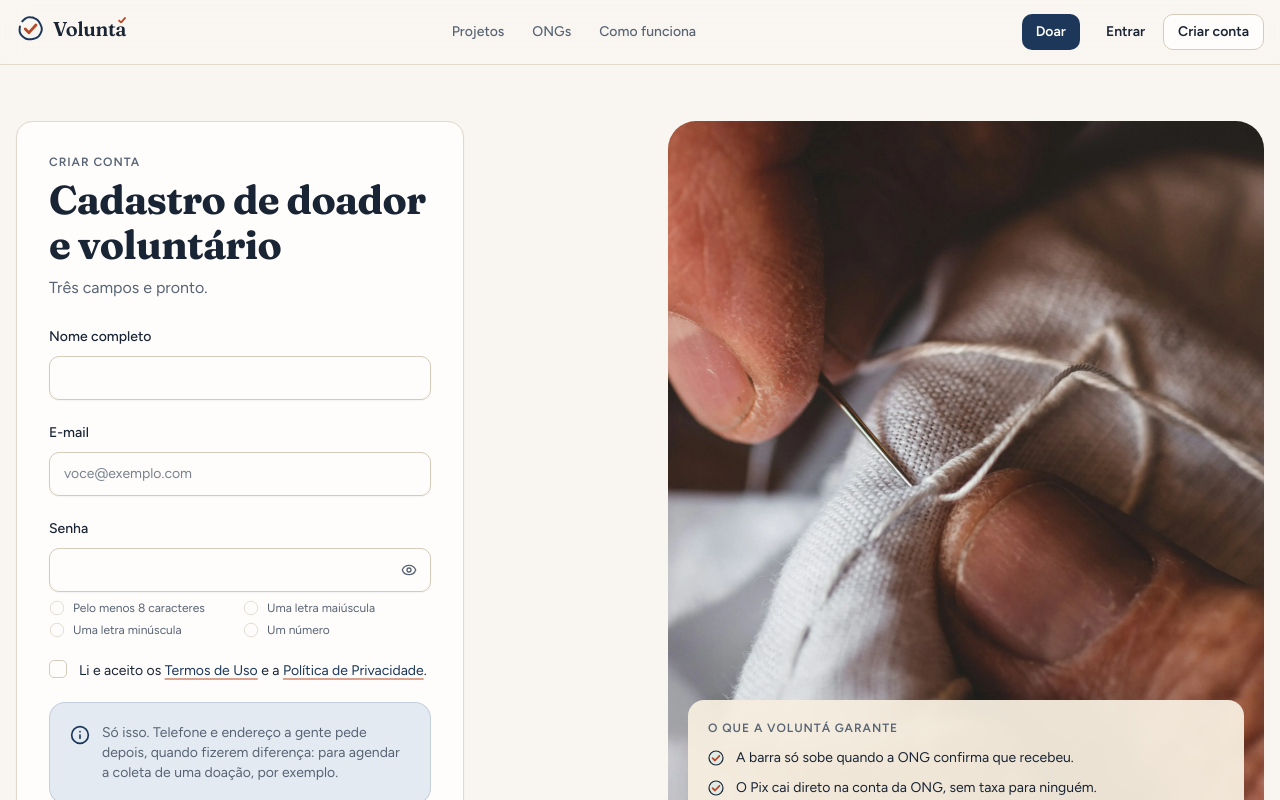
Test: CadastroPage: doador › trata usuário sem identidades como e-mail já cadastrado (confirmação ligada)
Type "Maria Souza" into the field labelled "Nome completo". click: (240, 378)
box: [49,356,431,400]
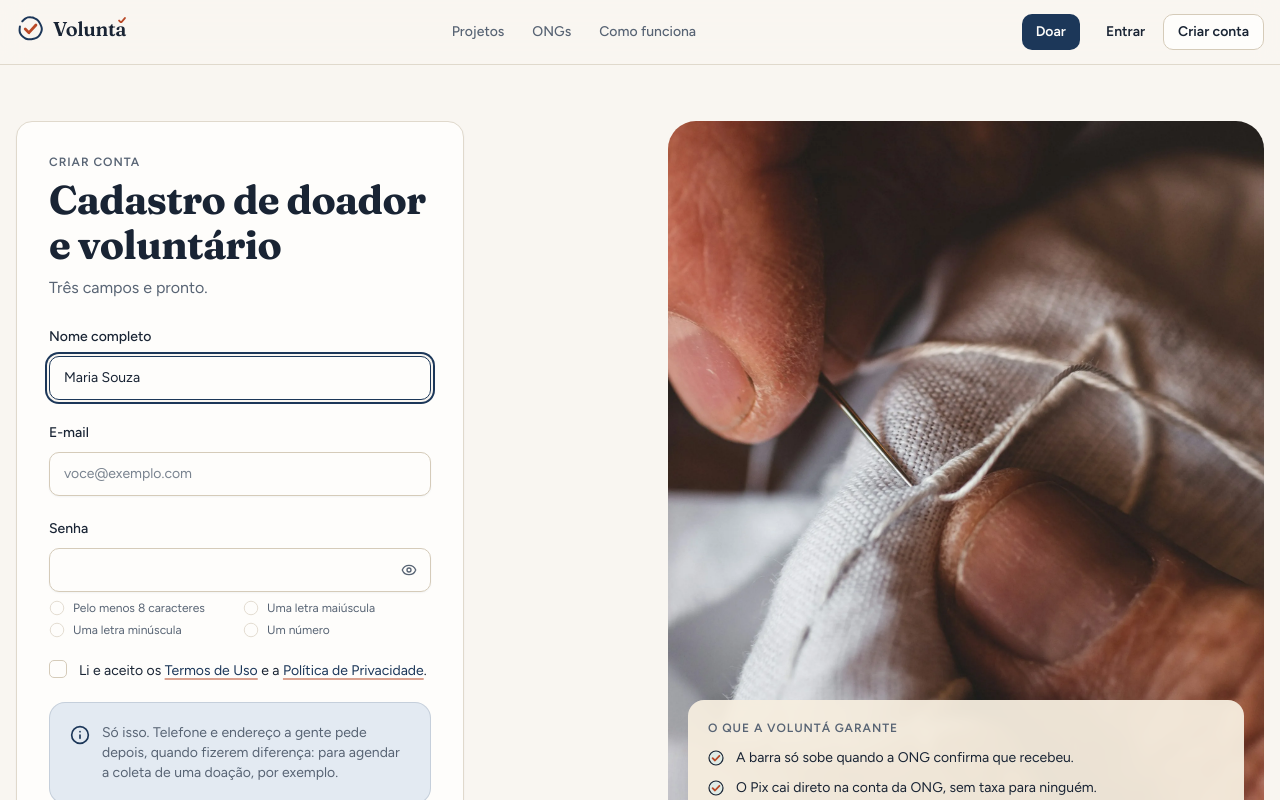
Type "maria@exemplo.com" into the field labelled "E-mail". click: (240, 474)
box: [49,452,431,496]
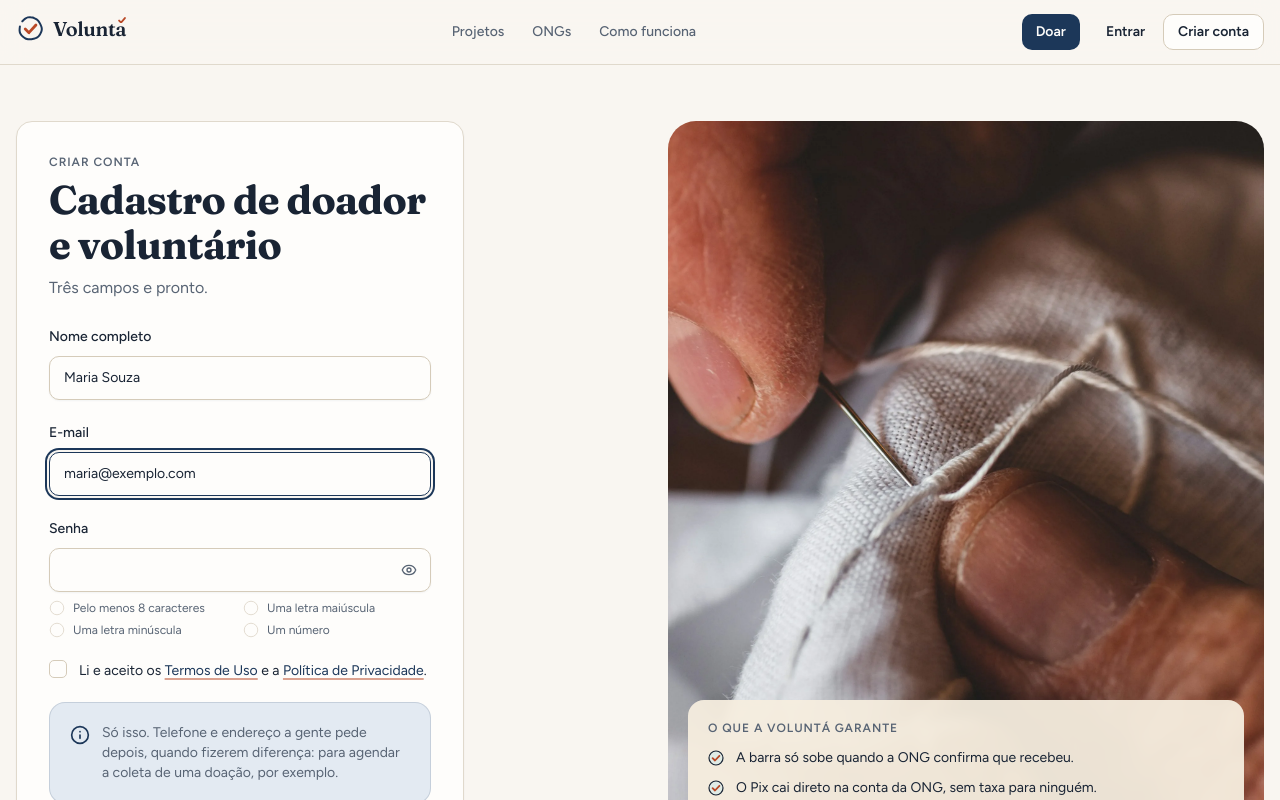
Type "Senha1234" into the password field labelled "Senha". click: (240, 570)
box: [49,548,431,592]
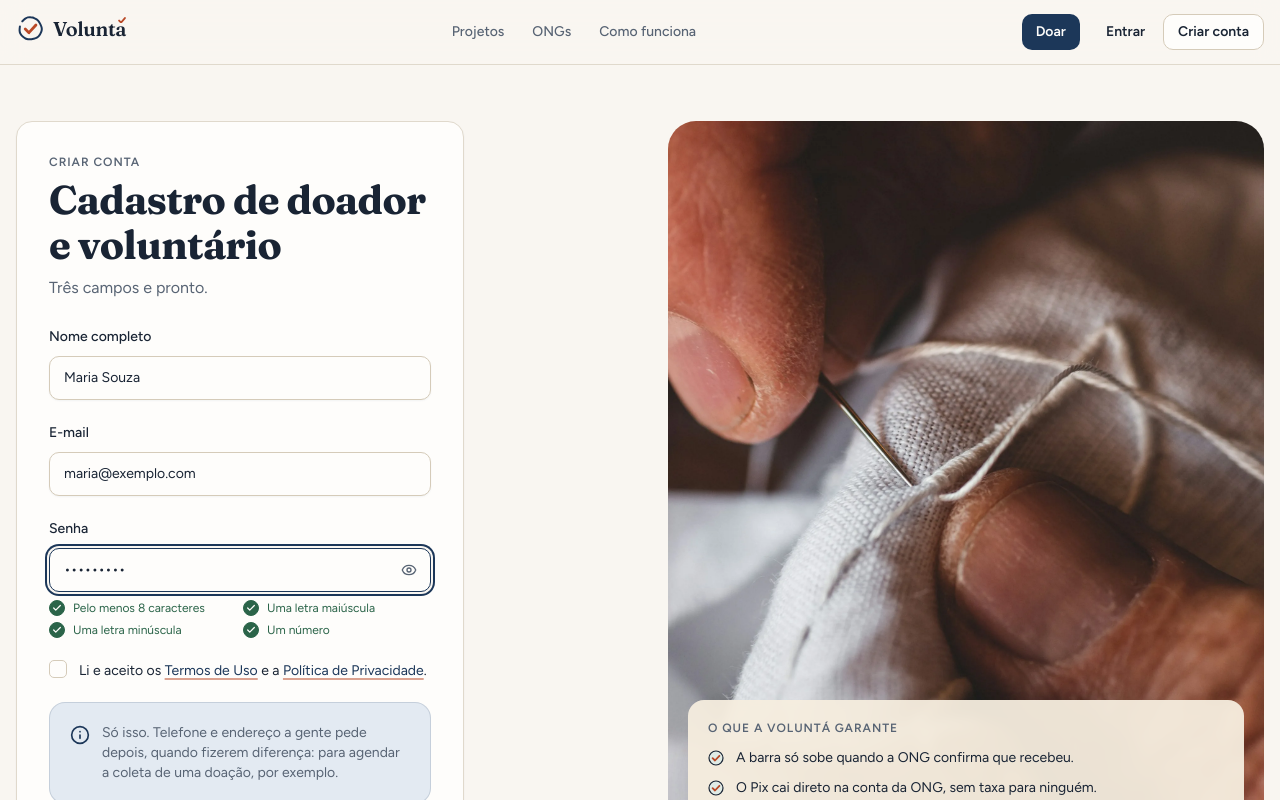
Click the checkbox. click: click(58, 669)
box: [49,660,67,678]
(page scrolled)
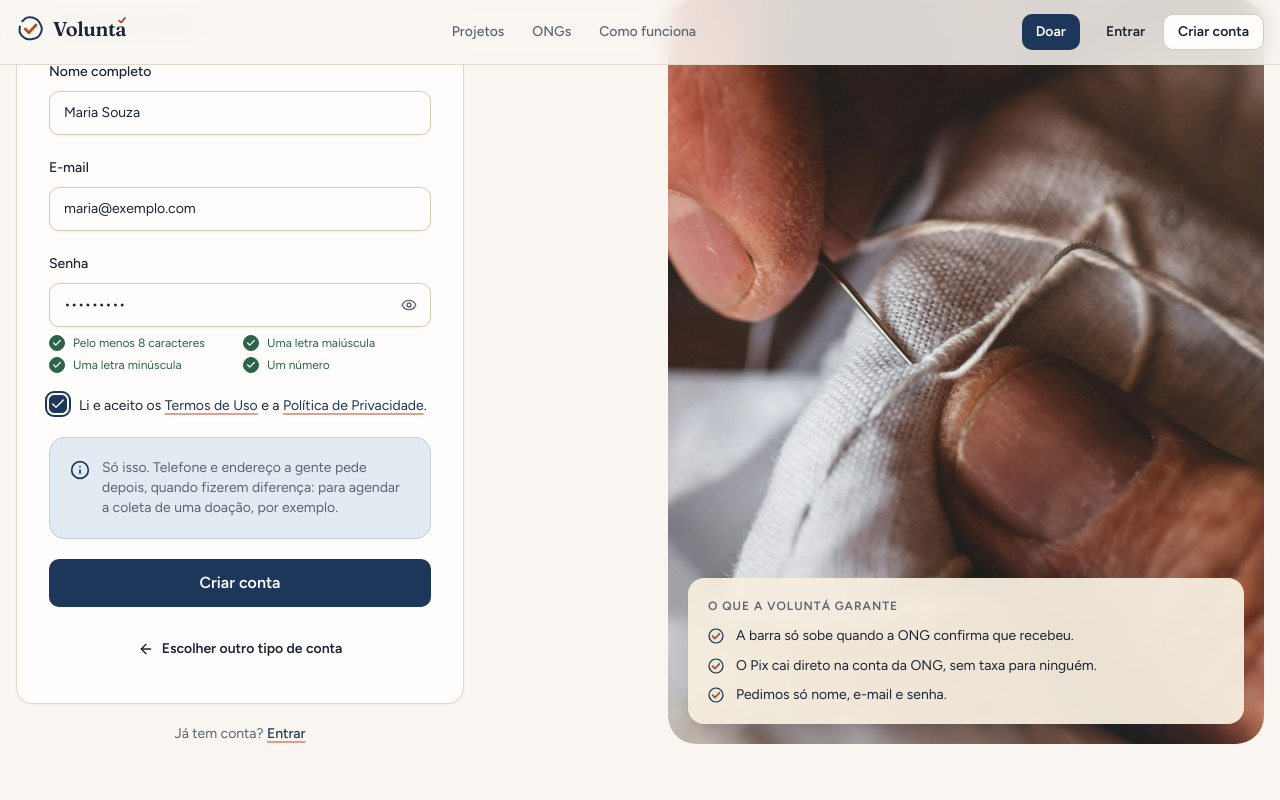
Click the button "Criar conta". click: click(240, 583)
box: [49,559,431,607]
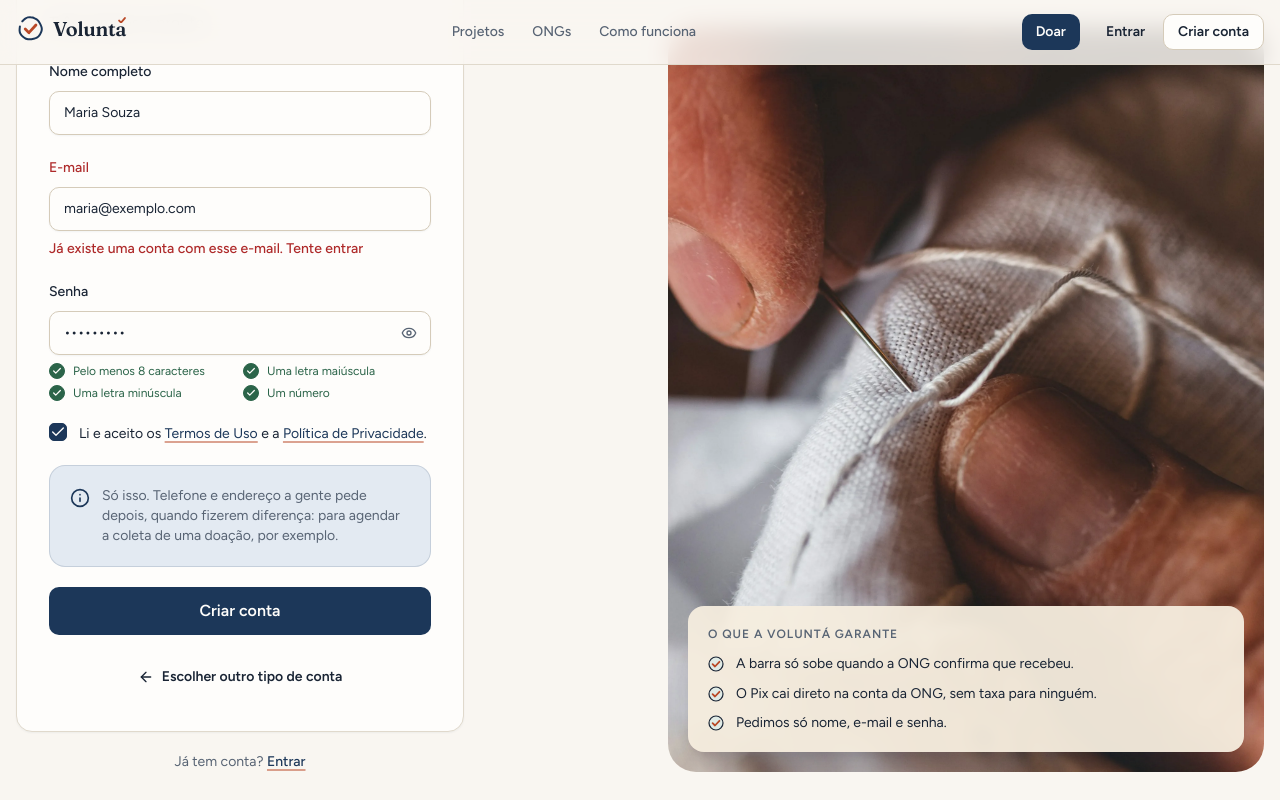
Expected: the text "Já existe uma conta com esse e-mail. Tente entrar" is shown, [49,240,363,257]
